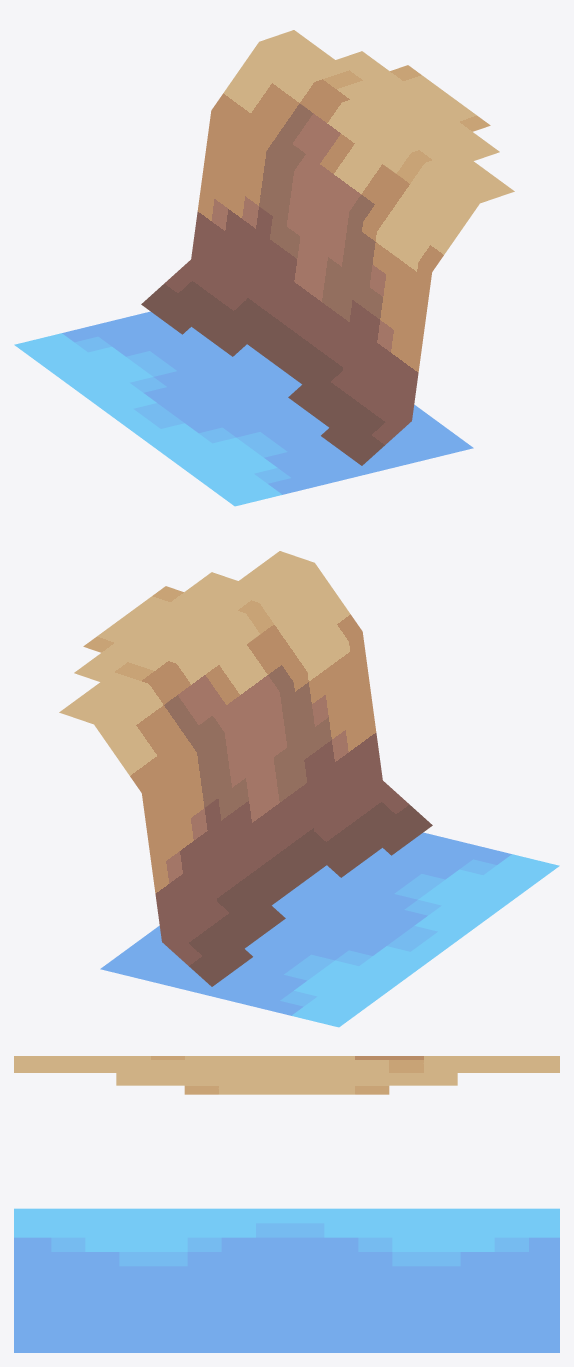
3 views of the same model, one above another, from view 1: azimuth 30°, elevation 25°; view 2: azimuth 150°, elevation 25°; view 3: azimuth 270°, elevation 25° (orthographic). The views are drawn at different scales.
Bounding box in the file's own units: 0.8496 × 0.627 × 1.
Materials: 2 (2 with a texture image).
